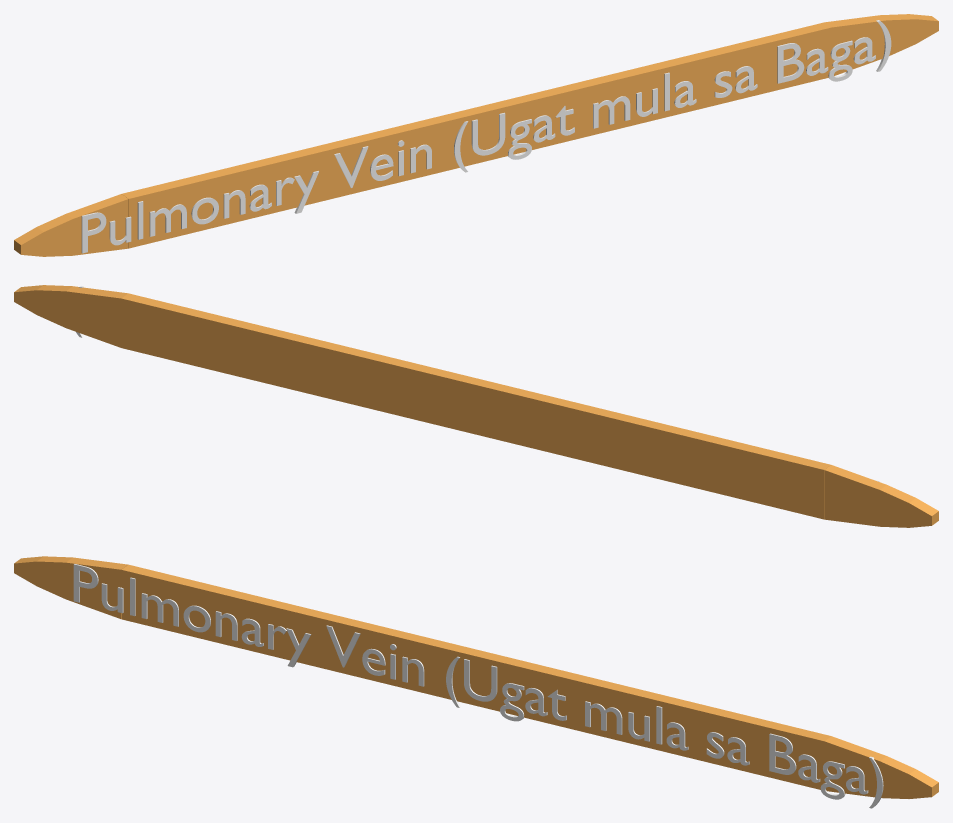
File: txtPulmonaryVein.fbx
3 renders of one model, top to bottom at view 1: azimuth 30°, elevation 25°; view 2: azimuth 150°, elevation 25°; view 3: azimuth 330°, elevation 25°, orthographic.
Visible parts, largest first — view 1: TagContainer.109, Text.111; view 2: TagContainer.109; view 3: TagContainer.109, Text.111.
Part boxes in pixels (x1,y1,x2,y2): TagContainer.109: [14, 14, 938, 256]; Text.111: [81, 20, 891, 253]; TagContainer.109: [14, 285, 938, 527]; TagContainer.109: [14, 556, 938, 798]; Text.111: [73, 564, 883, 808].
Bounding box in the file's own units: 800 × 45.81 × 11.84.
